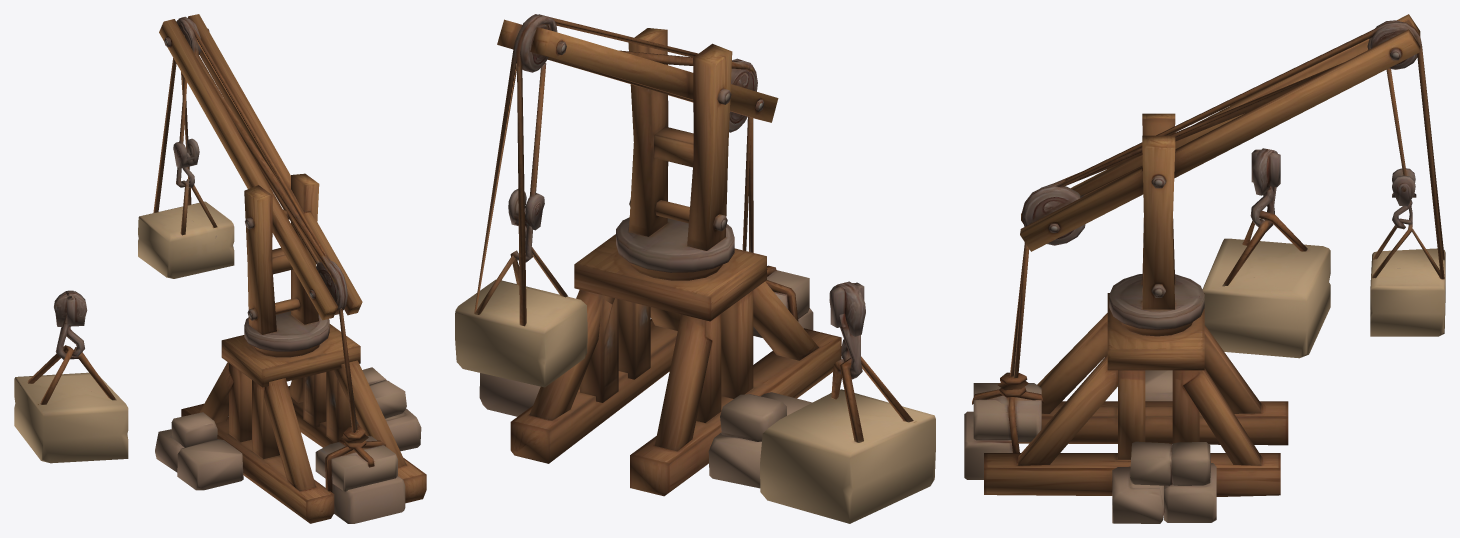
The model's file is map_crane_tripo.glb.
3 renders of one model, left to right at view 1: azimuth 30°, elevation 25°; view 2: azimuth 150°, elevation 25°; view 3: azimuth 270°, elevation 25°, orthographic. The views are drawn at different scales.
Visible parts, largest first — view 1: tripo_node_c9f26f3e-0a7e-4f2c-a58e-1f5cc99f6746; view 2: tripo_node_c9f26f3e-0a7e-4f2c-a58e-1f5cc99f6746; view 3: tripo_node_c9f26f3e-0a7e-4f2c-a58e-1f5cc99f6746.
Part boxes in pixels (<box>): tripo_node_c9f26f3e-0a7e-4f2c-a58e-1f5cc99f6746: <box>14,14,426,523</box>; tripo_node_c9f26f3e-0a7e-4f2c-a58e-1f5cc99f6746: <box>455,14,935,523</box>; tripo_node_c9f26f3e-0a7e-4f2c-a58e-1f5cc99f6746: <box>964,14,1445,523</box>.
Size of the model in its own units: 0.9434 by 0.998 by 0.998.
Materials: 1 (1 with a texture image).
